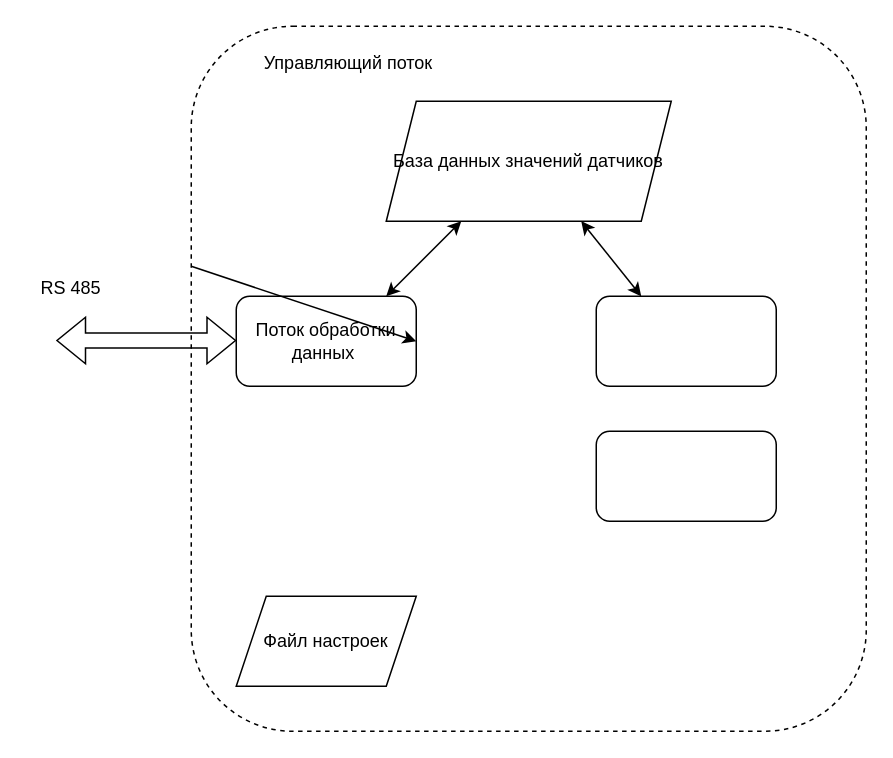
This 893x758 diagram has some shape labels left out. The shapes that lost their labels are listed below. From the top down, each one's centre as x and y in pixels, then its label:
At point (685, 340): "Поток веб-сервера".
At point (685, 475): "Драйвер модема".
